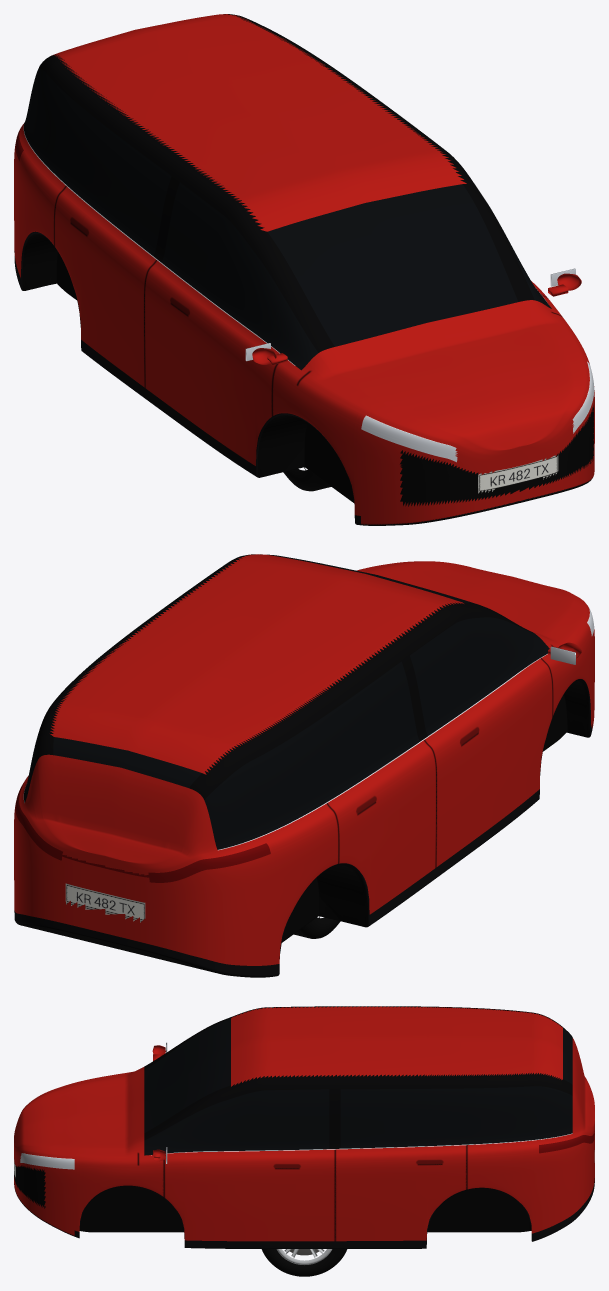
The model's file is suv.glb.
3 renders of one model, top to bottom at view 1: azimuth 30°, elevation 25°; view 2: azimuth 150°, elevation 25°; view 3: azimuth 270°, elevation 25°, orthographic. The views are drawn at different scales.
Visible parts, largest first — view 1: body; view 2: body, wheel; view 3: body, wheel.
Part boxes in pixels (x1,y1,x2,y2): body: [14, 14, 594, 525]; body: [14, 554, 594, 977]; wheel: [293, 916, 340, 938]; body: [14, 1006, 594, 1248]; wheel: [261, 1249, 347, 1276].
Bounding box in the file's own units: 2.17 × 2.1 × 4.72.
17 materials, 2 textured.
